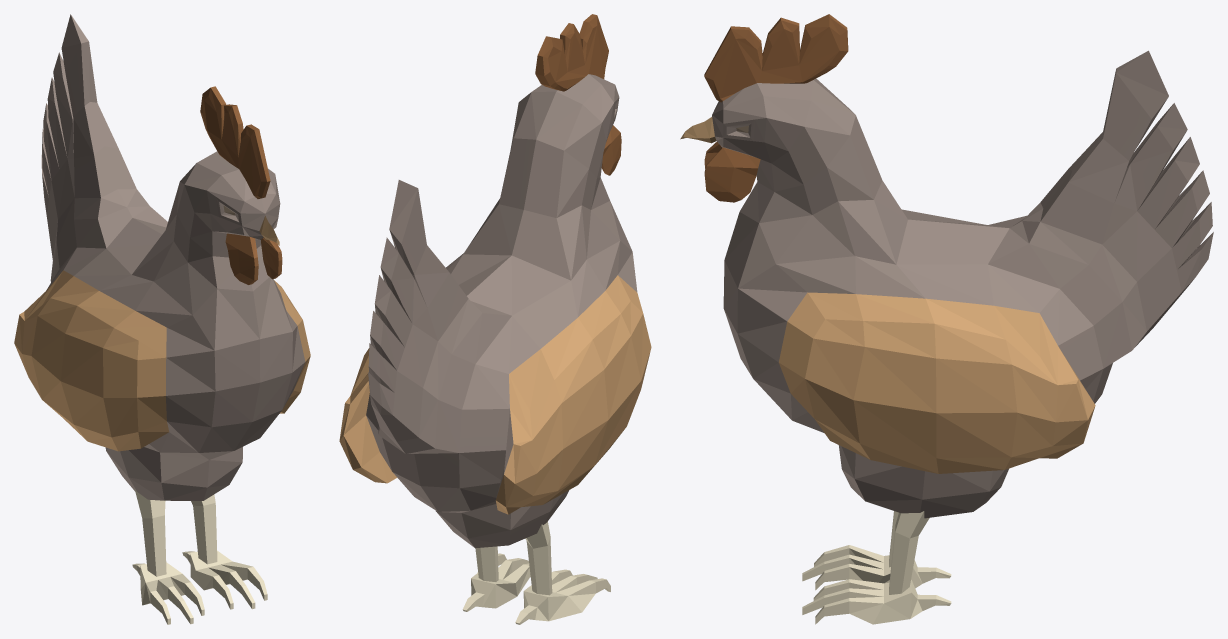
The model's file is rooster_a.gltf.
3 views of the same model, side by side, from view 1: azimuth 30°, elevation 25°; view 2: azimuth 150°, elevation 25°; view 3: azimuth 270°, elevation 25° (orthographic). The views are drawn at different scales.
Visible parts, largest first — view 1: rooster_a001; view 2: rooster_a001; view 3: rooster_a001.
Part boxes in pixels (x1,y1,x2,y2): rooster_a001: (14, 14, 310, 624); rooster_a001: (339, 14, 651, 624); rooster_a001: (680, 14, 1213, 624).
Bounding box in the file's own units: 0.3584 × 0.8524 × 0.7067.
Materials: 1 (1 with a texture image).
